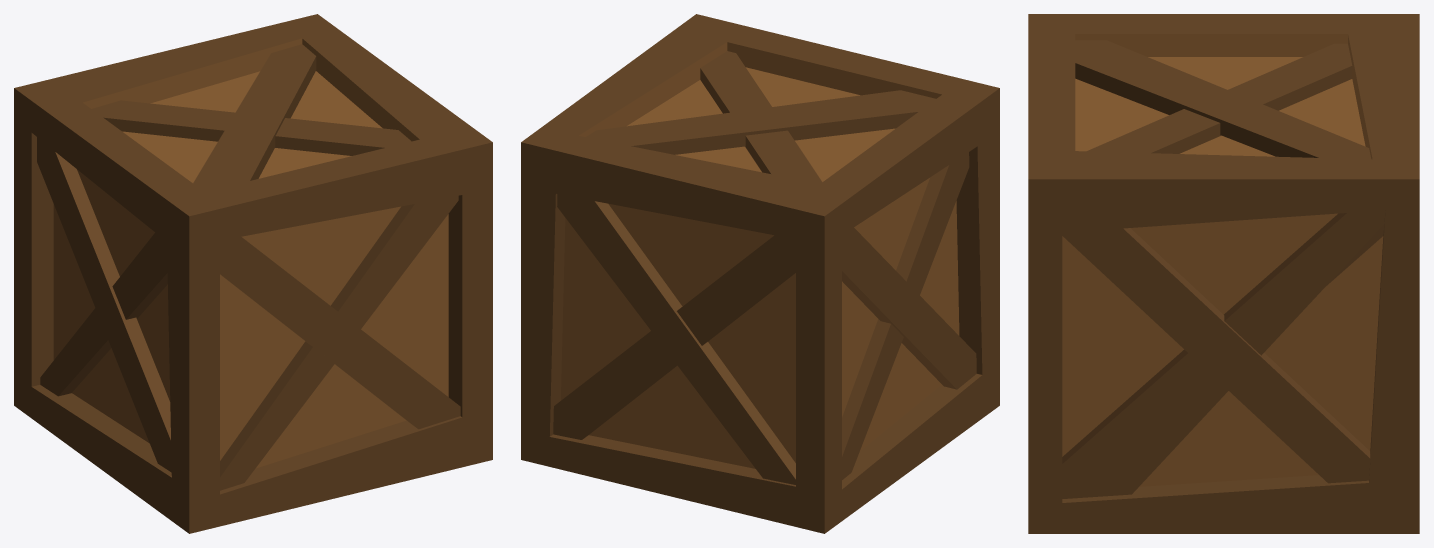
The model's file is Item_Box_Fantasy_Crate.fbx.
The picture shows the model from 3 angles, left to right: view 1: azimuth 30°, elevation 25°; view 2: azimuth 150°, elevation 25°; view 3: azimuth 270°, elevation 25°; orthographic projection. The views are drawn at different scales.
Parts seen in each view (by area): view 1: Item Box Fantasy Crate; view 2: Item Box Fantasy Crate; view 3: Item Box Fantasy Crate.
Boxes of the visible parts, <box> form: Item Box Fantasy Crate: <box>14,14,492,533</box>; Item Box Fantasy Crate: <box>521,14,999,533</box>; Item Box Fantasy Crate: <box>1028,14,1419,533</box>.
Size of the model in its own units: 200 by 200 by 200.
